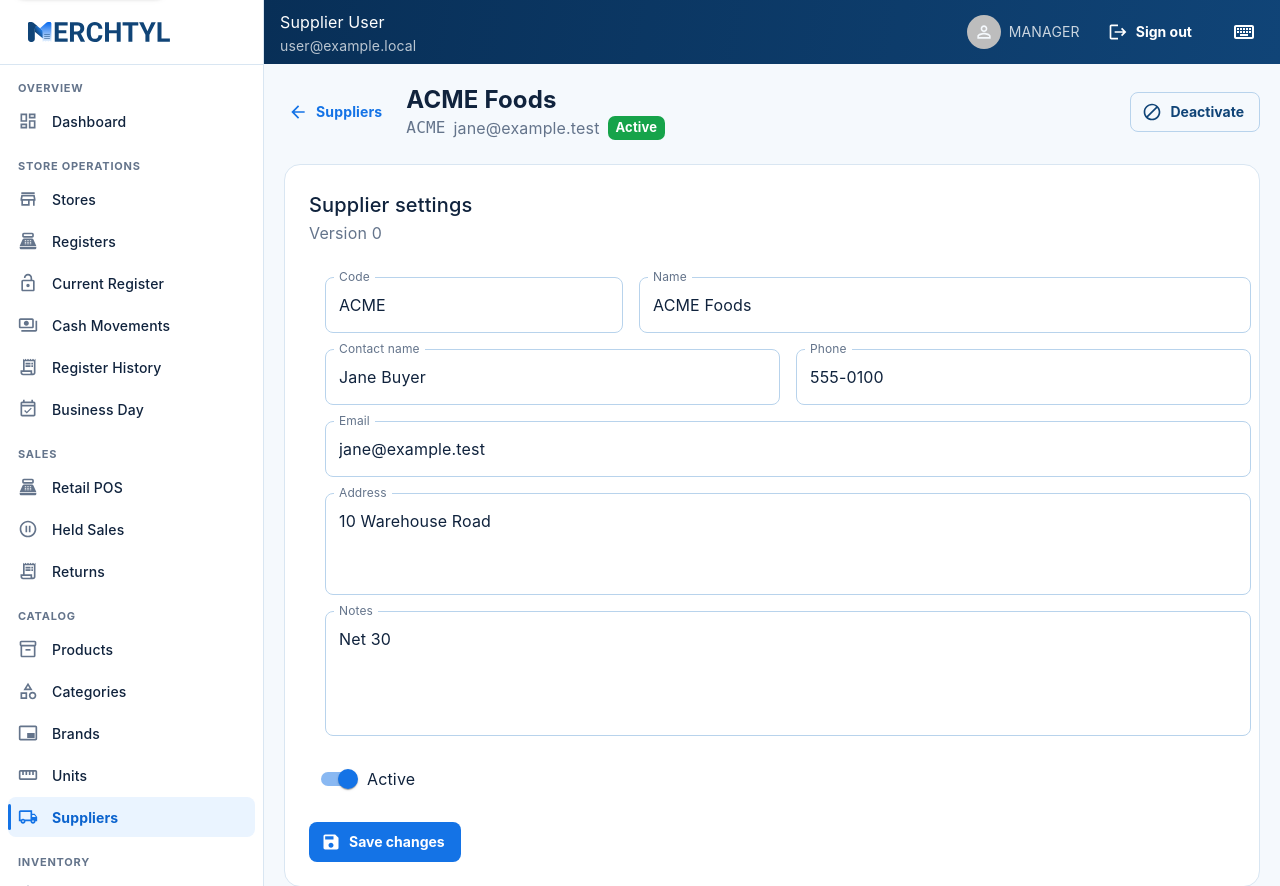
Test case: Supplier pages › validates, edits, and deactivates a supplier
Expected: the heading "ACME Foods" is shown, top-left (406, 85), bottom-right (557, 114)
Clear the field labelled "Name" at (945,305), box top-left (639, 277), bottom-right (1251, 333)
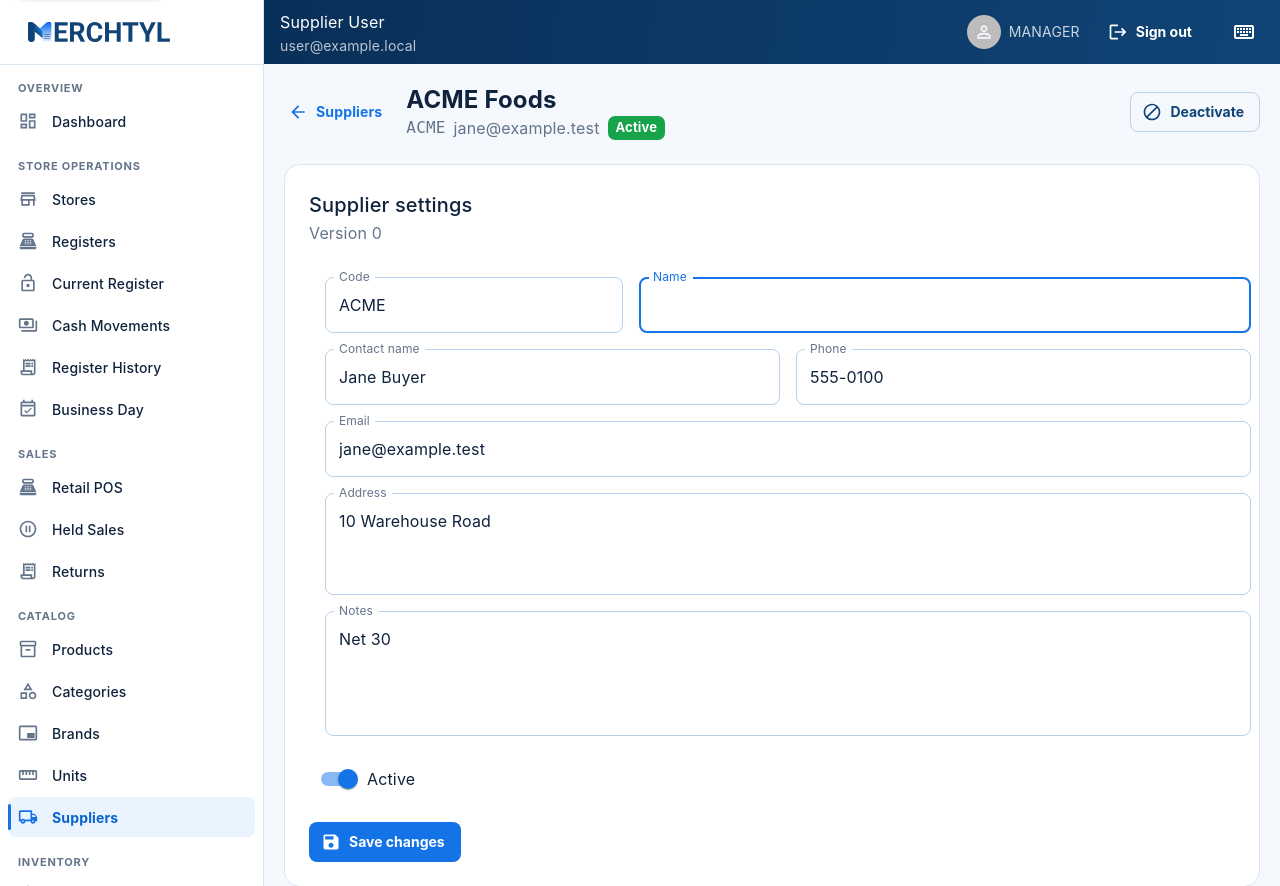
Click the button "Save changes" at (385,842), box top-left (309, 822), bottom-right (461, 862)
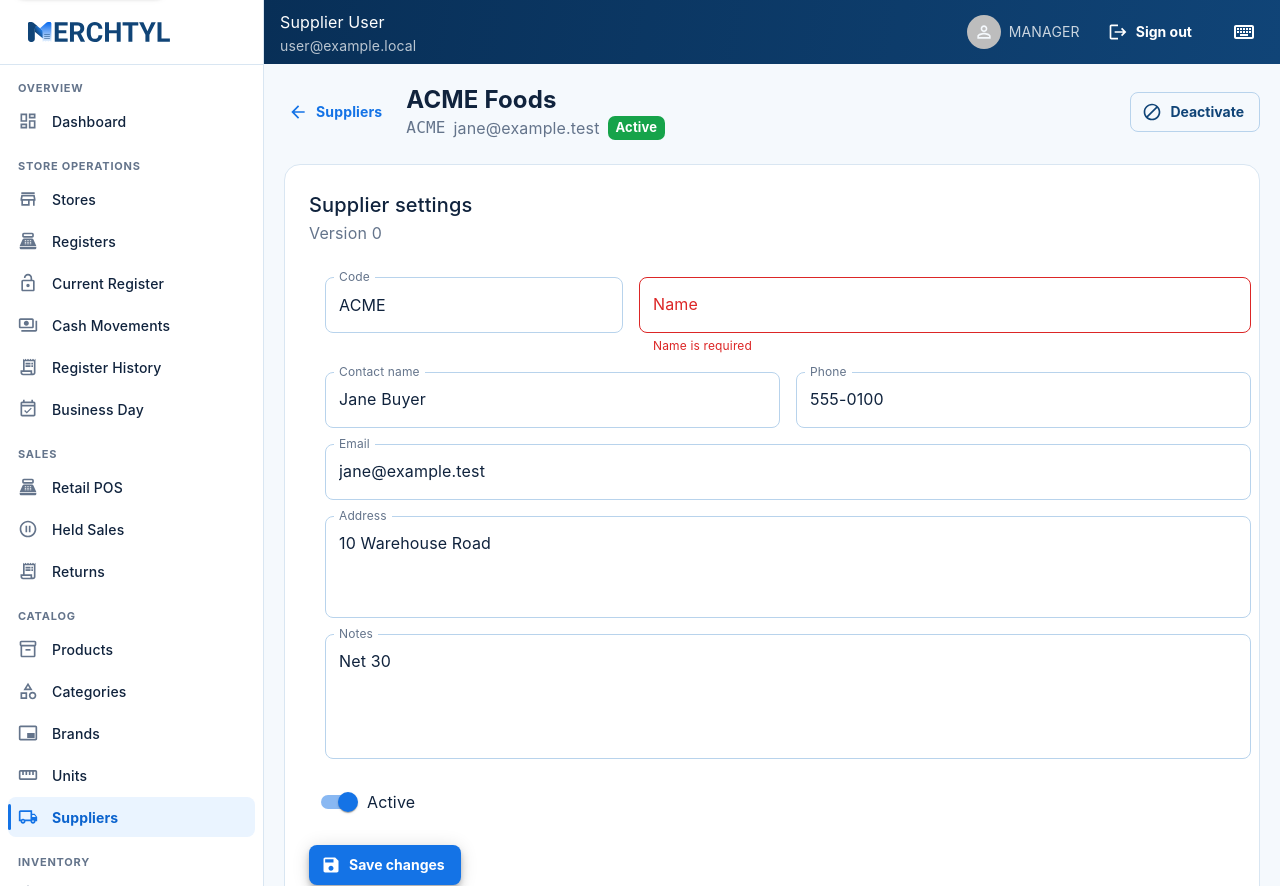
Now the text "Name is required" is shown, box top-left (653, 338), bottom-right (752, 353)
Type "Updated Supplier" into the field labelled "Name" at (945,305), box top-left (639, 277), bottom-right (1251, 333)
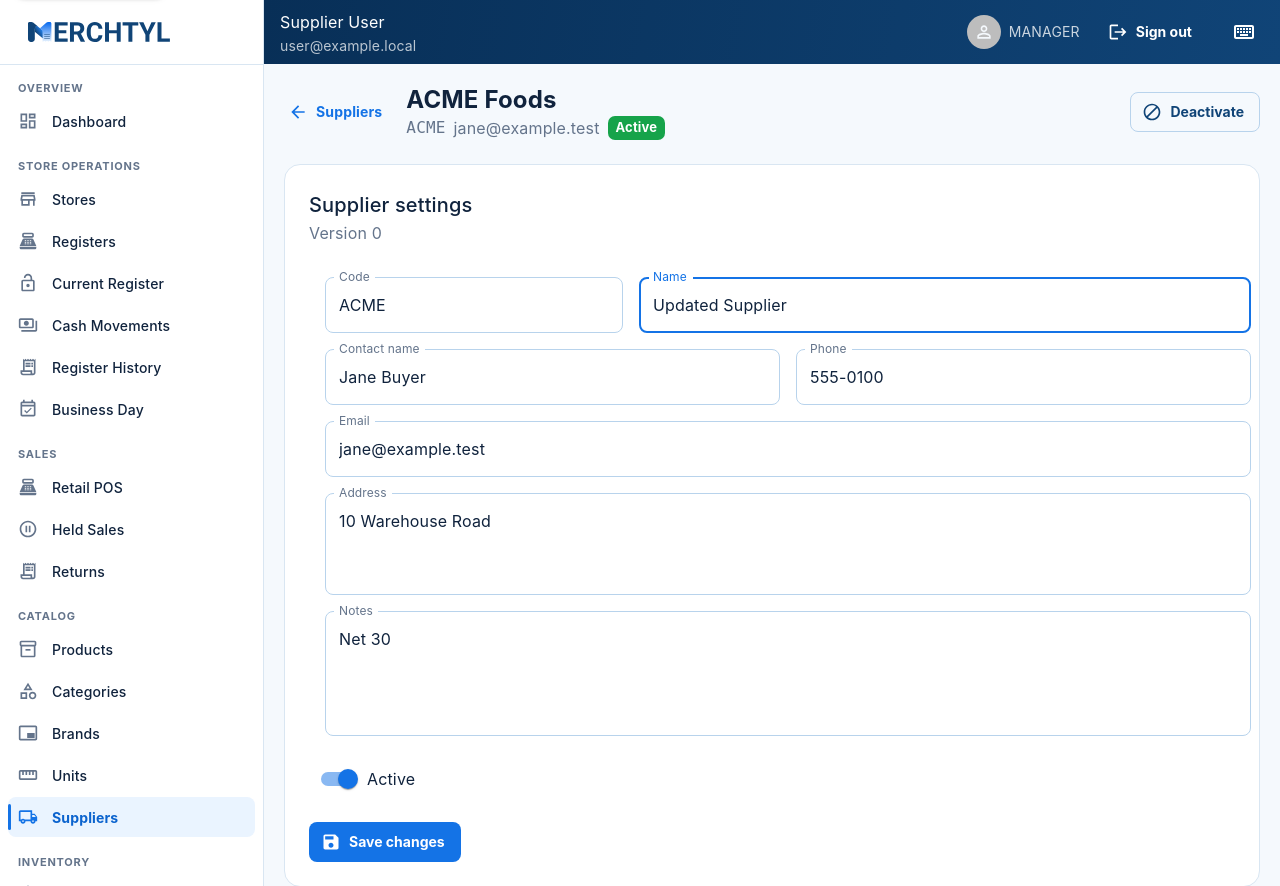
Click the button "Save changes" at (385,842), box top-left (309, 822), bottom-right (461, 862)
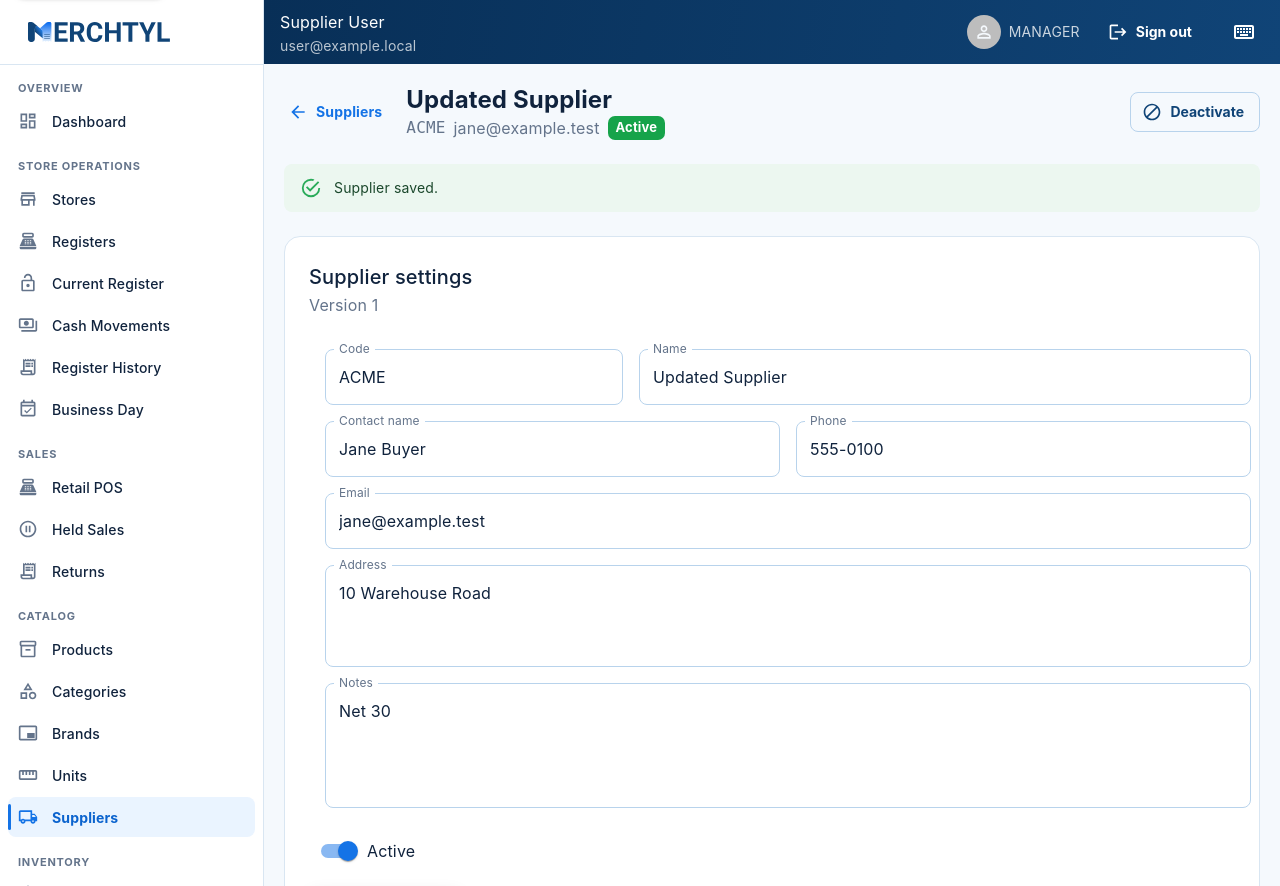
Now the text "Supplier saved." is shown, box top-left (334, 179), bottom-right (438, 196)
Now the heading "Updated Supplier" is shown, box top-left (406, 85), bottom-right (612, 114)
Click the button "Deactivate" at (1195,112), box top-left (1130, 92), bottom-right (1260, 132)
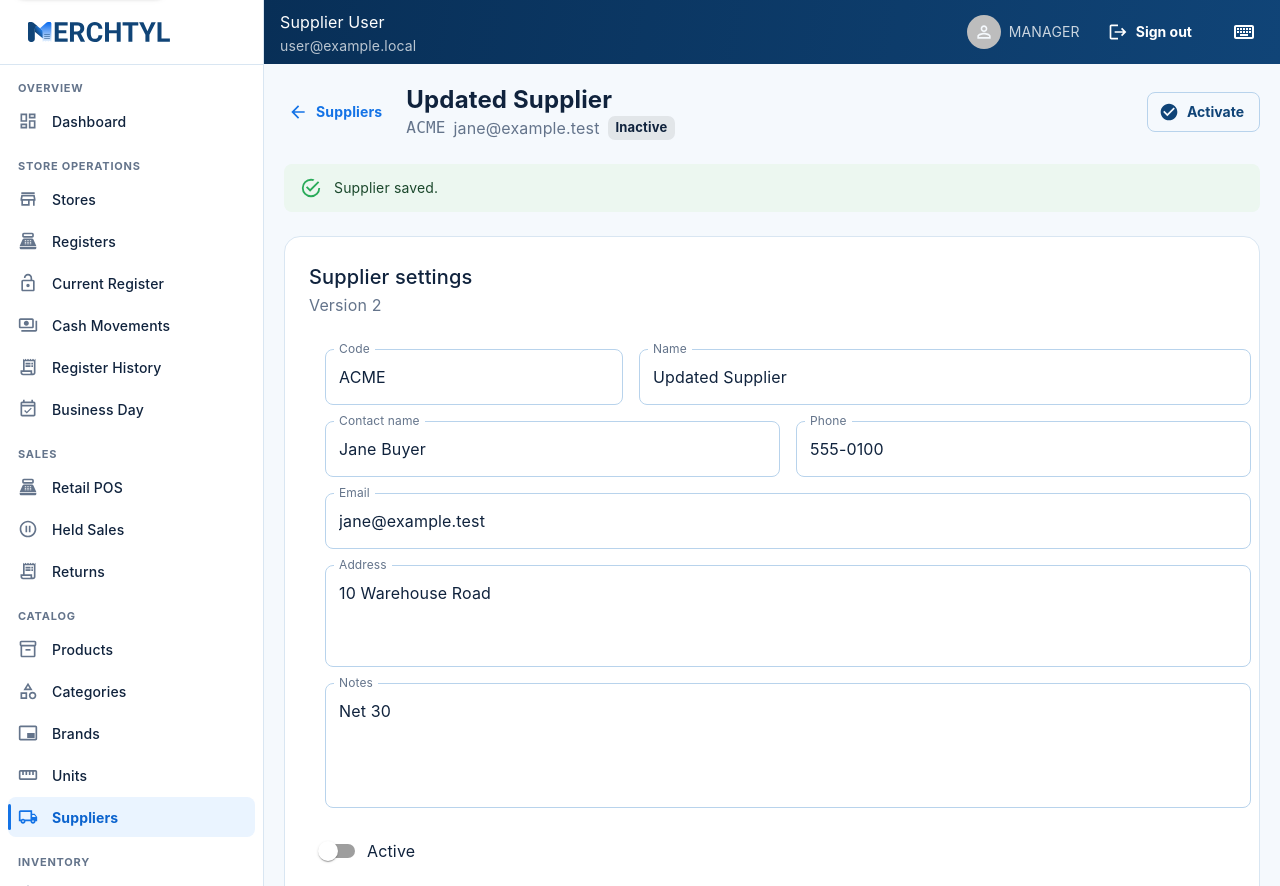
Now the text "Inactive" is shown, box top-left (616, 119), bottom-right (667, 135)
